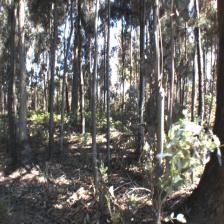trunktrack_idkeyframe: (17, 36, 27, 141), (92, 73, 100, 185), (154, 74, 164, 152), (7, 73, 16, 157), (48, 60, 55, 162), (58, 69, 66, 152), (196, 48, 204, 120), (78, 60, 85, 133), (105, 64, 110, 160), (138, 75, 145, 123)
